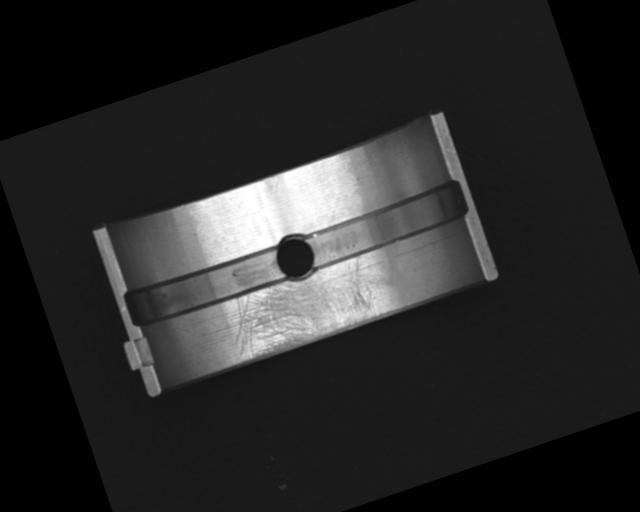gap: (300, 179, 471, 272), (121, 244, 286, 329)
hole: (271, 228, 319, 285)
scratch: (220, 250, 392, 364)
